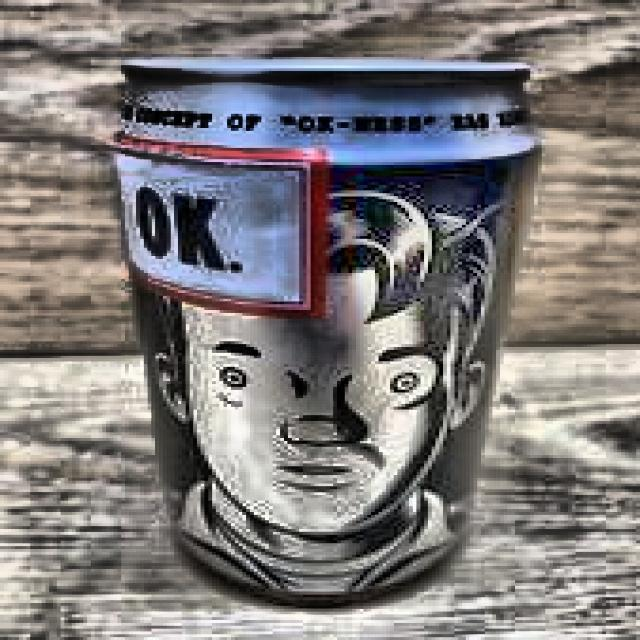Cans: (92, 31, 551, 600)
